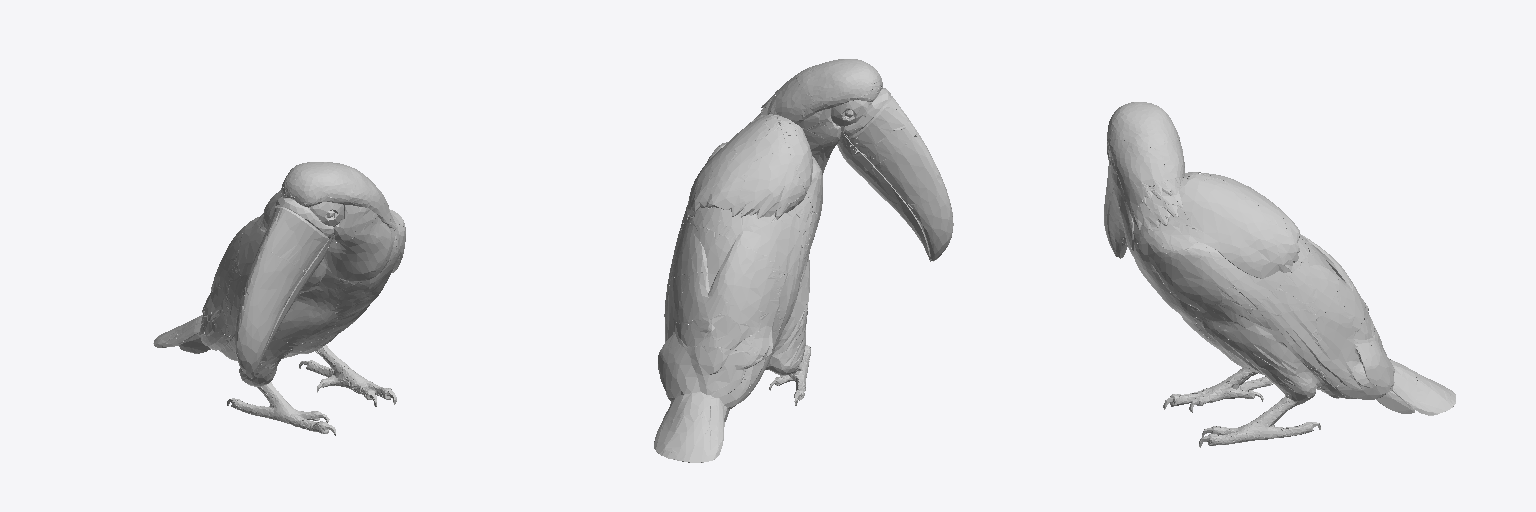
File: tucan2.obj
The picture shows the model from 3 angles: view 1: azimuth 30°, elevation 25°; view 2: azimuth 150°, elevation 25°; view 3: azimuth 270°, elevation 25°; orthographic projection.
Visible parts, largest first — view 1: tmpv0bdpgcg.obj; view 2: tmpv0bdpgcg.obj; view 3: tmpv0bdpgcg.obj.
Part boxes in pixels (x1,y1,x2,y2): tmpv0bdpgcg.obj: (153,162,405,435); tmpv0bdpgcg.obj: (654,59,953,462); tmpv0bdpgcg.obj: (1104,102,1455,447).
Bounding box in the file's own units: 0.9043 × 1.21 × 1.35.